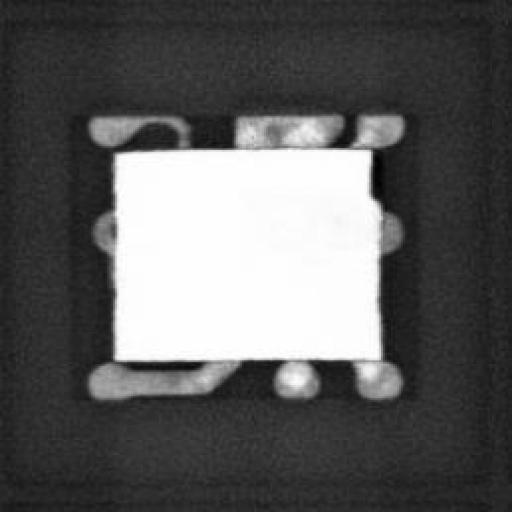DIE_BROKEN: (365, 142, 381, 203)
